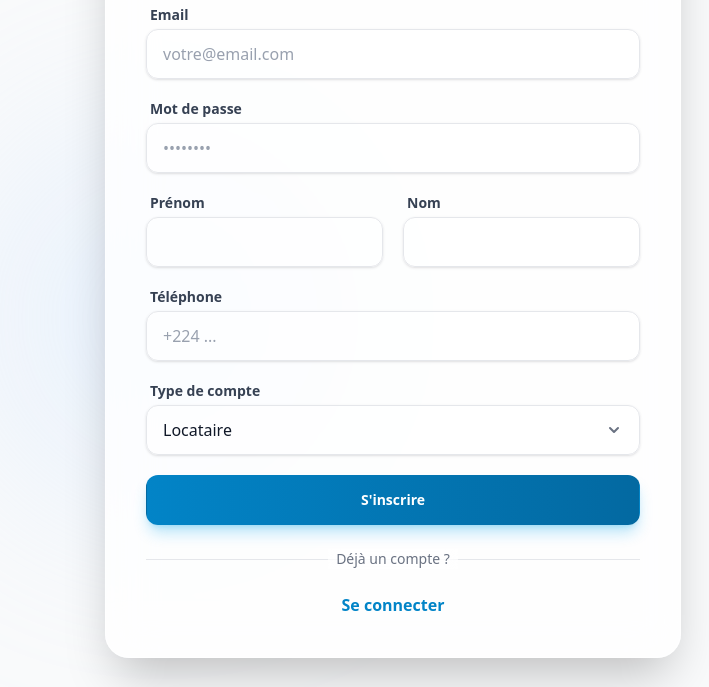
Test: Register Component › shows document upload fields when Demarcheur role is selected
(page scrolled)
Select "Démarcheur" in the dropdown labelled "Type de compte" at (393, 430), box [146, 405, 640, 455]
(page scrolled)
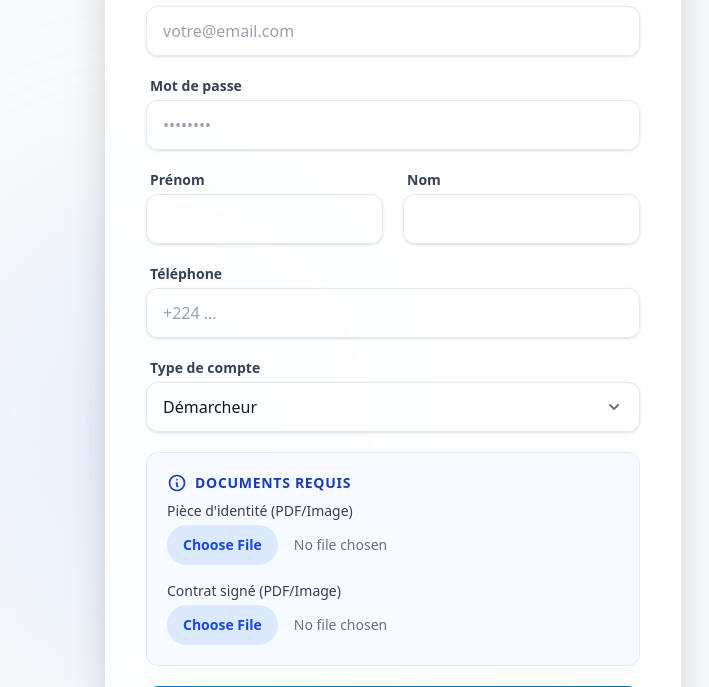
Expected: the heading "Documents requis" is shown, [195, 473, 351, 493]
Expected: the file field labelled "Pièce d'identité (PDF/Image)" is shown, [167, 525, 619, 565]
Expected: the file field labelled "Contrat signé (PDF/Image)" is shown, [167, 605, 619, 645]
